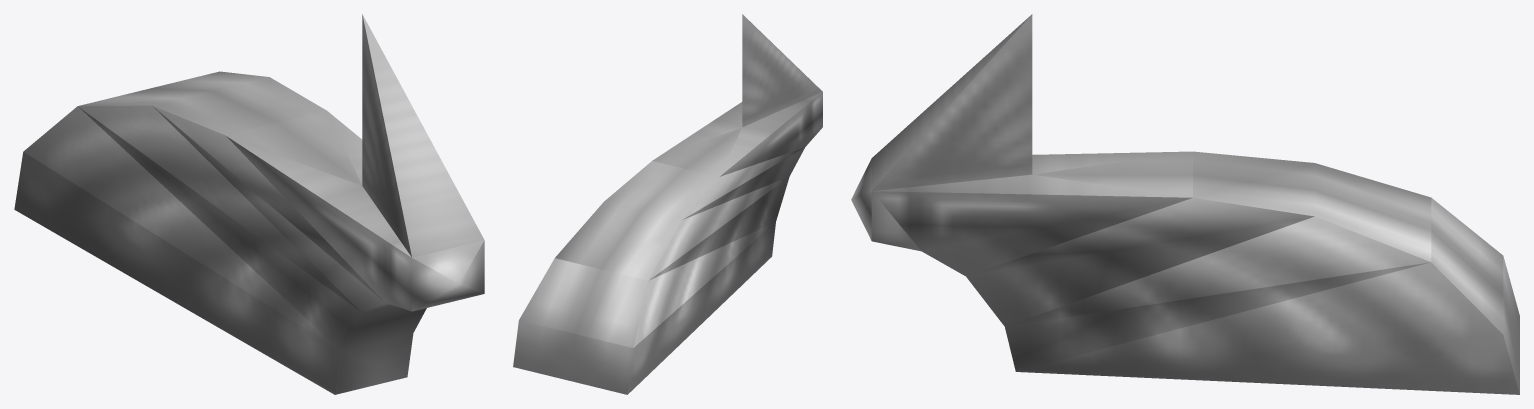
File: acc_2.glb
3 views of the same model, side by side, from view 1: azimuth 30°, elevation 25°; view 2: azimuth 150°, elevation 25°; view 3: azimuth 270°, elevation 25° (orthographic). The views are drawn at different scales.
Parts seen in each view (by area): view 1: vertex; view 2: vertex; view 3: vertex.
Boxes of the visible parts, x1,y1,x2,y2 form: vertex: [14, 14, 484, 394]; vertex: [513, 14, 822, 394]; vertex: [851, 14, 1519, 394].
Bounding box in the file's own units: 0.2191 × 0.4407 × 0.7826.
Materials: 1 (1 with a texture image).
